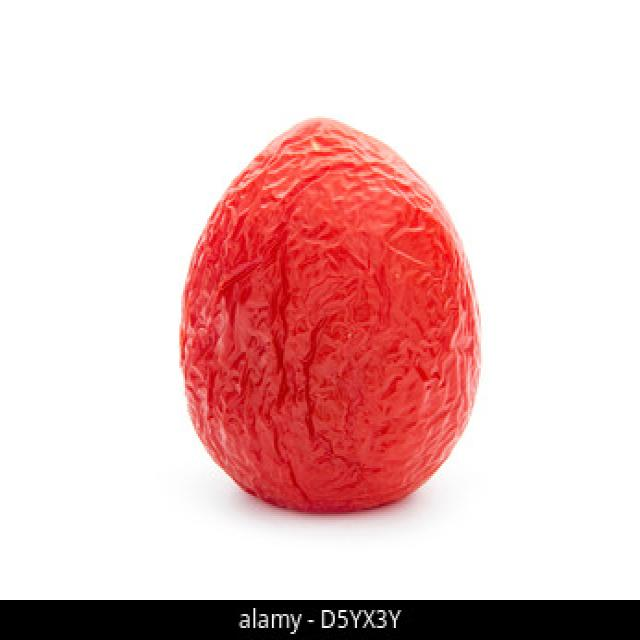overripe: (178, 111, 483, 518)
